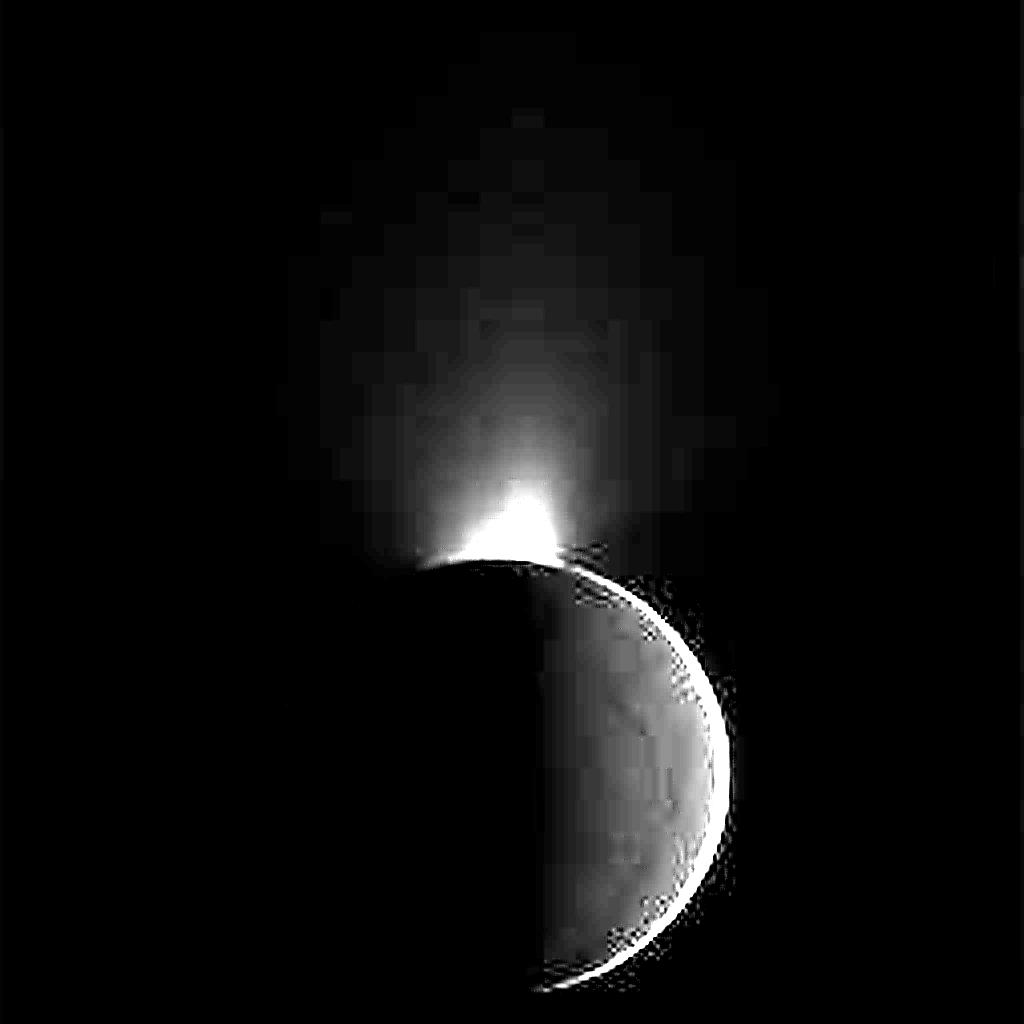plumes: (420, 492, 570, 568)
